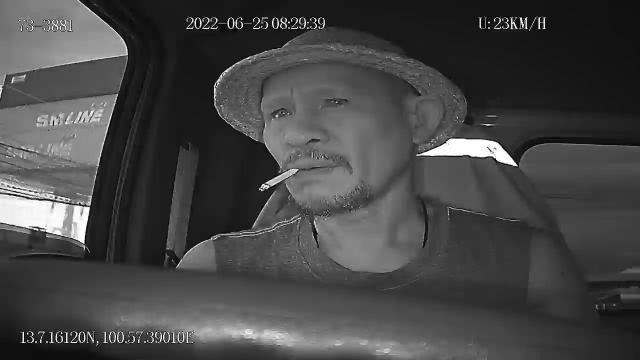SafeDriving: (7, 6, 84, 40), (316, 88, 357, 114), (264, 100, 298, 122)
Smoking: (259, 166, 299, 190)
